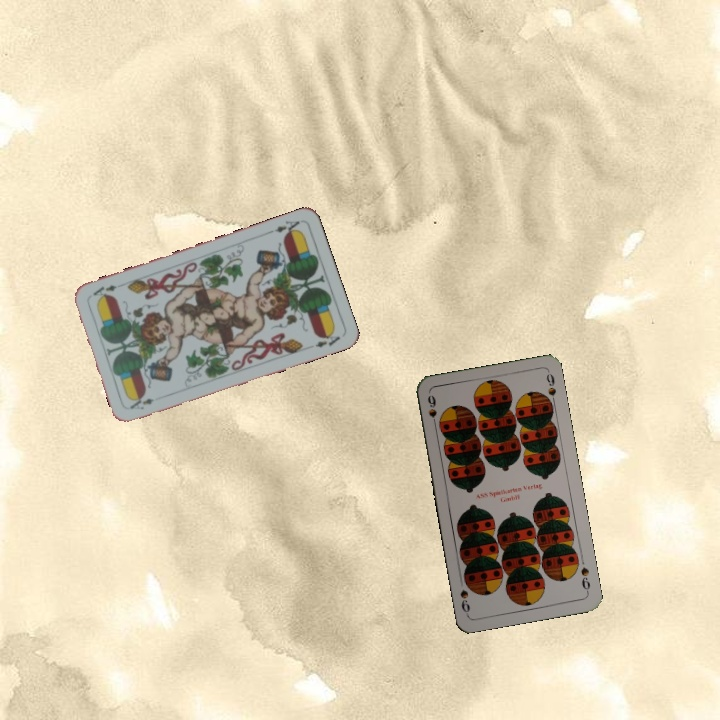EA: (271, 216, 303, 238), (126, 394, 156, 412)
S9: (423, 391, 439, 431), (577, 563, 593, 595)
